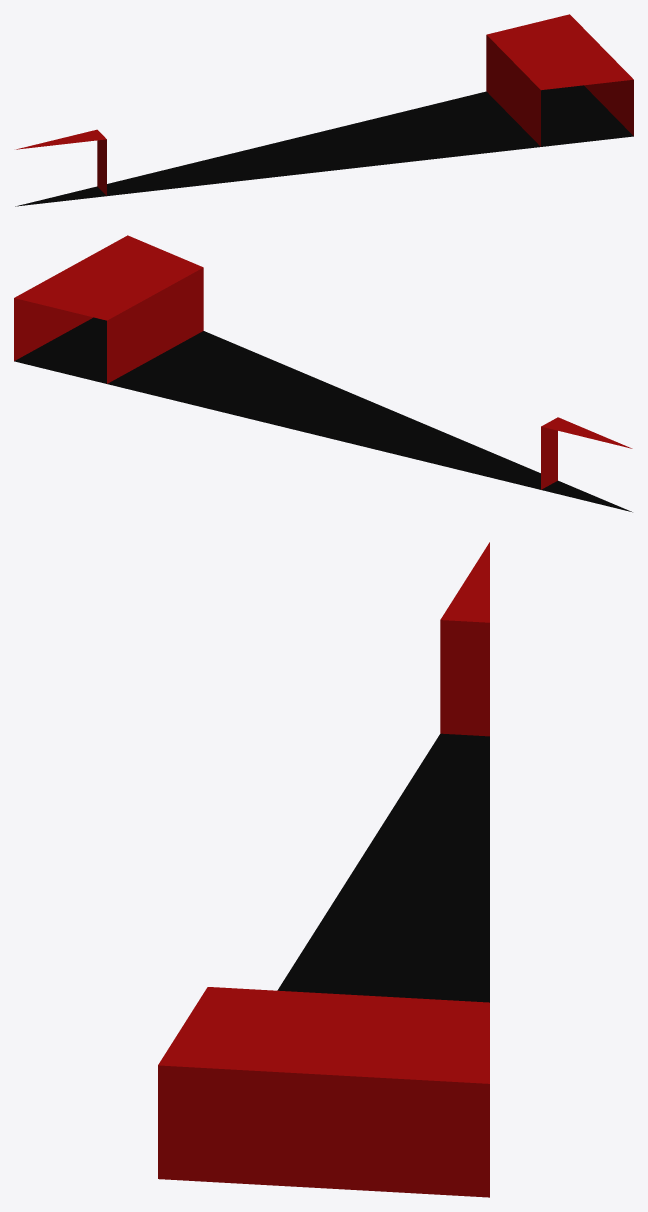
The model's file is road_15_angles.fbx.
3 views of the same model, one above another, from view 1: azimuth 30°, elevation 25°; view 2: azimuth 150°, elevation 25°; view 3: azimuth 270°, elevation 25° (orthographic). The views are drawn at different scales.
Parts seen in each view (by area): view 1: Object003; view 2: Object003; view 3: Object003.
Boxes of the visible parts, x1,y1,x2,y2 form: Object003: [15, 14, 633, 206]; Object003: [14, 235, 632, 512]; Object003: [158, 542, 489, 1197].
Size of the model in its own units: 20 by 1.95 by 5.18.
